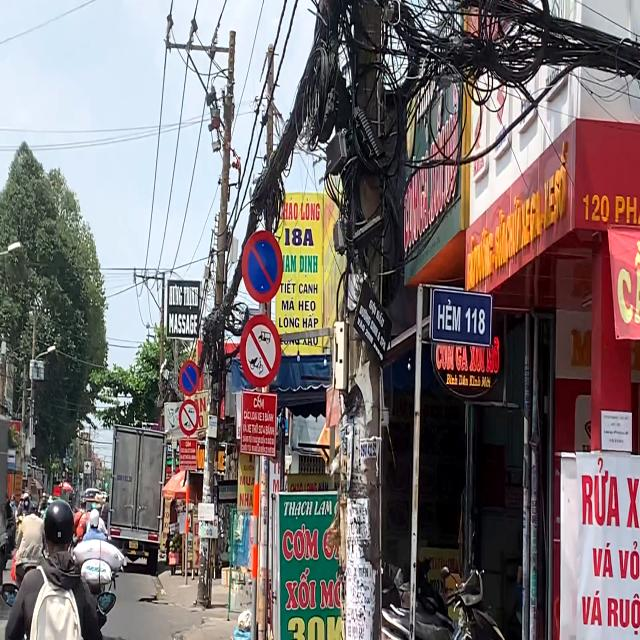P.131a: (240, 229, 284, 307), (178, 361, 200, 396)
